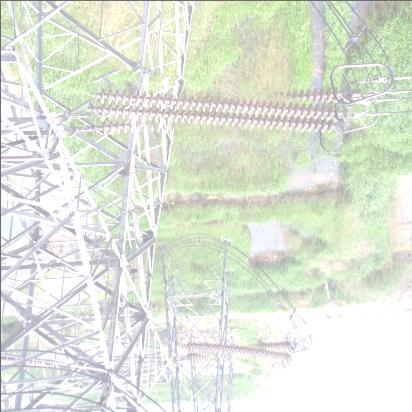insulator: (88, 76, 348, 148), (182, 335, 294, 369)
